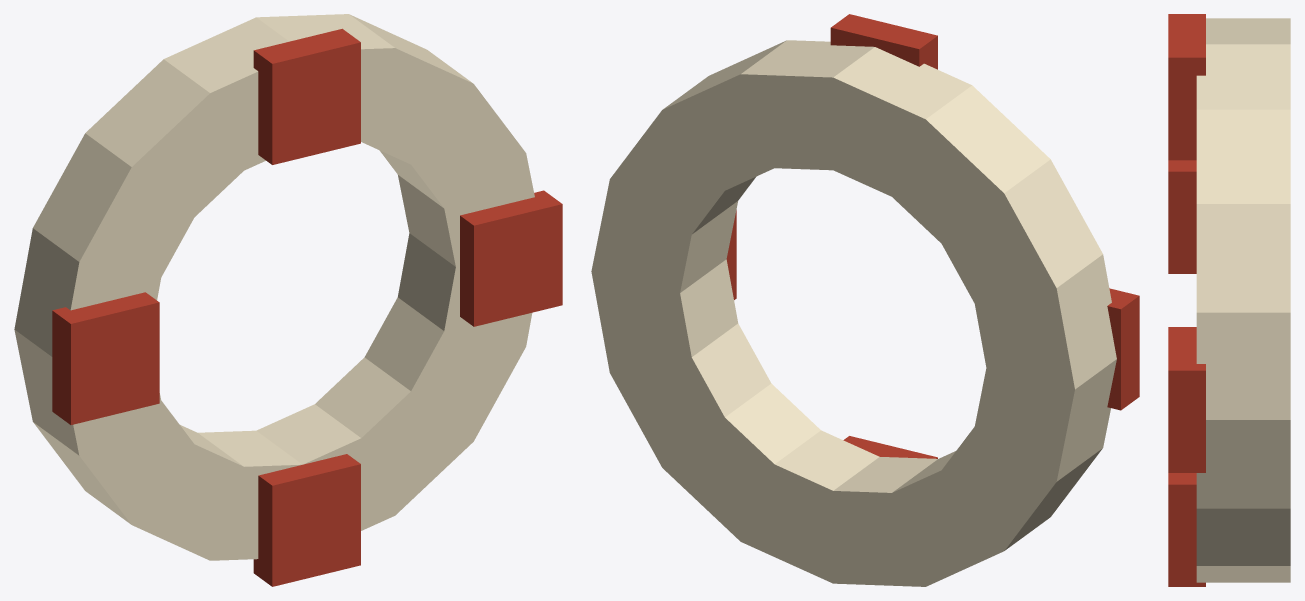
The model's file is dock_kit__life_ring.glb.
3 renders of one model, left to right at view 1: azimuth 30°, elevation 25°; view 2: azimuth 150°, elevation 25°; view 3: azimuth 270°, elevation 25°, orthographic.
Parts seen in each view (by area): view 1: life_ring__cream.001, life_ring__red.001; view 2: life_ring__cream.001, life_ring__red.001; view 3: life_ring__cream.001, life_ring__red.001.
Part boxes in pixels (left/top/right/bottom): life_ring__cream.001: left=14, top=14, right=534, bottom=560; life_ring__red.001: left=52, top=28, right=562, bottom=586; life_ring__cream.001: left=591, top=40, right=1116, bottom=586; life_ring__red.001: left=726, top=14, right=1139, bottom=458; life_ring__cream.001: left=1196, top=18, right=1290, bottom=582; life_ring__red.001: left=1168, top=14, right=1205, bottom=586.
Bounding box in the file's own units: 0.61 × 0.62 × 0.13.
